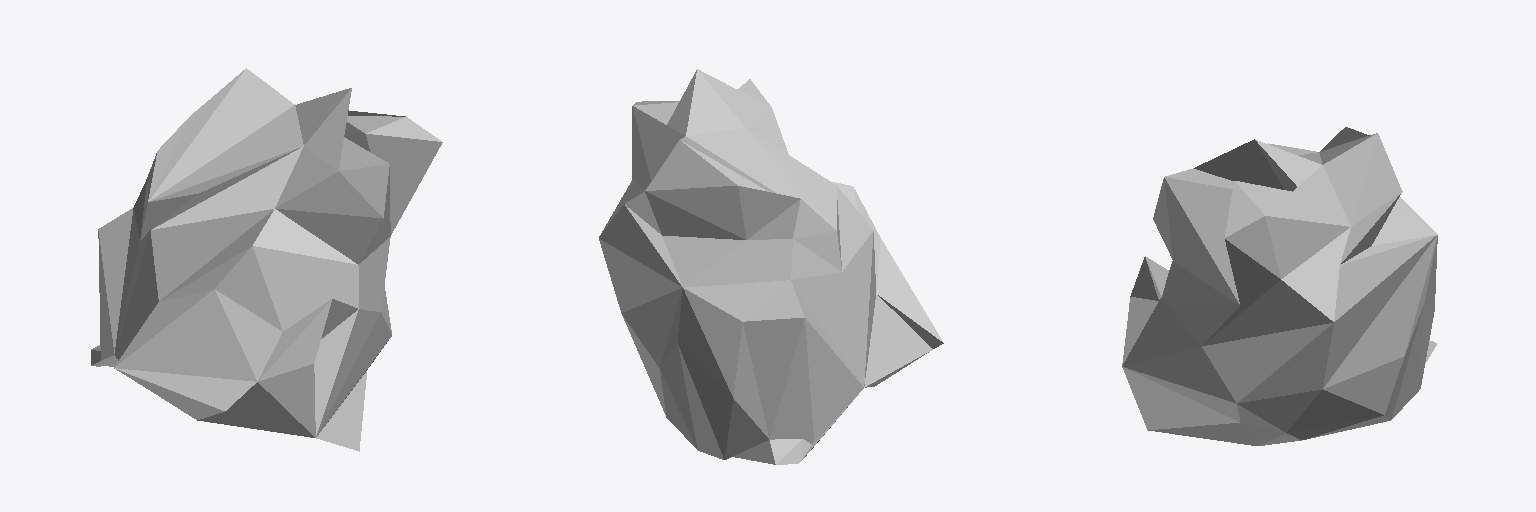
The model's file is Roca4.obj.
3 views of the same model, side by side, from view 1: azimuth 30°, elevation 25°; view 2: azimuth 150°, elevation 25°; view 3: azimuth 270°, elevation 25° (orthographic).
Visible parts, largest first — view 1: Icosphere; view 2: Icosphere; view 3: Icosphere.
Boxes of the visible parts, box(x1,y1,x2,y2) form: Icosphere: box(91, 68, 442, 451); Icosphere: box(599, 69, 943, 464); Icosphere: box(1122, 127, 1437, 445).
Size of the model in its own units: 2.34 by 2.21 by 2.01.